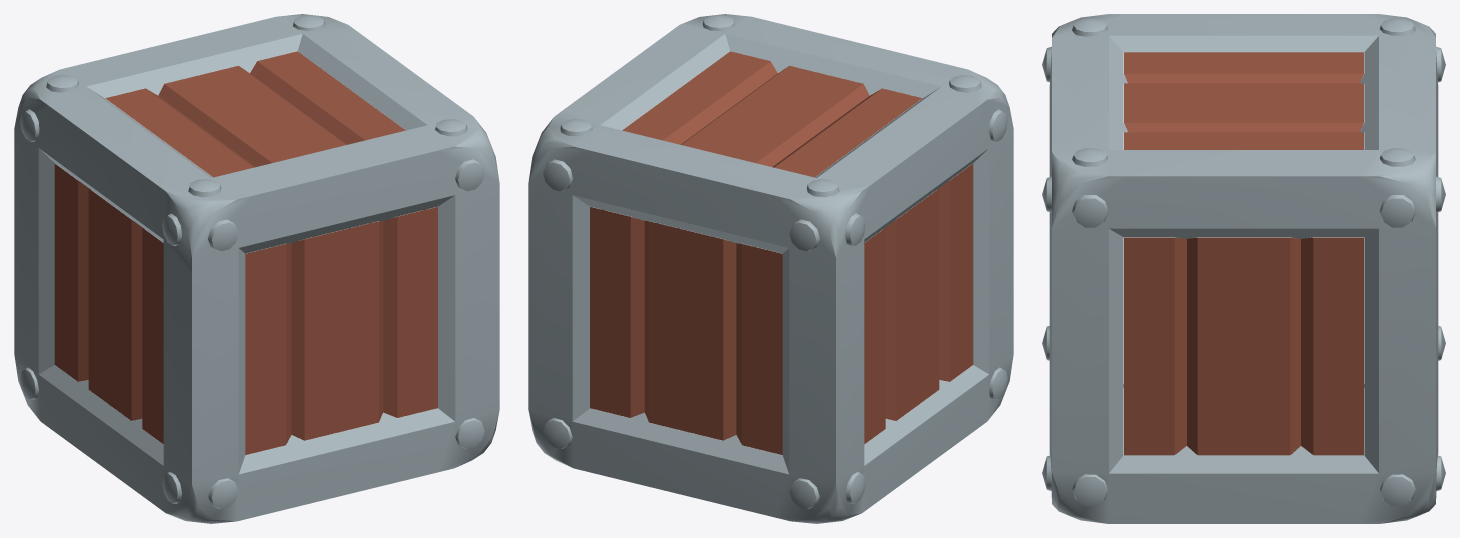
The model's file is crate.gltf.
3 renders of one model, left to right at view 1: azimuth 30°, elevation 25°; view 2: azimuth 150°, elevation 25°; view 3: azimuth 270°, elevation 25°, orthographic. The views are drawn at different scales.
Parts seen in each view (by area): view 1: Cube013_1, Cube013; view 2: Cube013_1, Cube013; view 3: Cube013_1, Cube013.
Boxes of the visible parts, x1,y1,x2,y2 form: Cube013_1: (14,14,499,523); Cube013: (54,51,437,454); Cube013_1: (528,14,1013,523); Cube013: (590,51,973,454); Cube013_1: (1042,14,1445,523); Cube013: (1124,52,1363,455).
Bounding box in the file's own units: 1.05 × 1.05 × 1.05.
